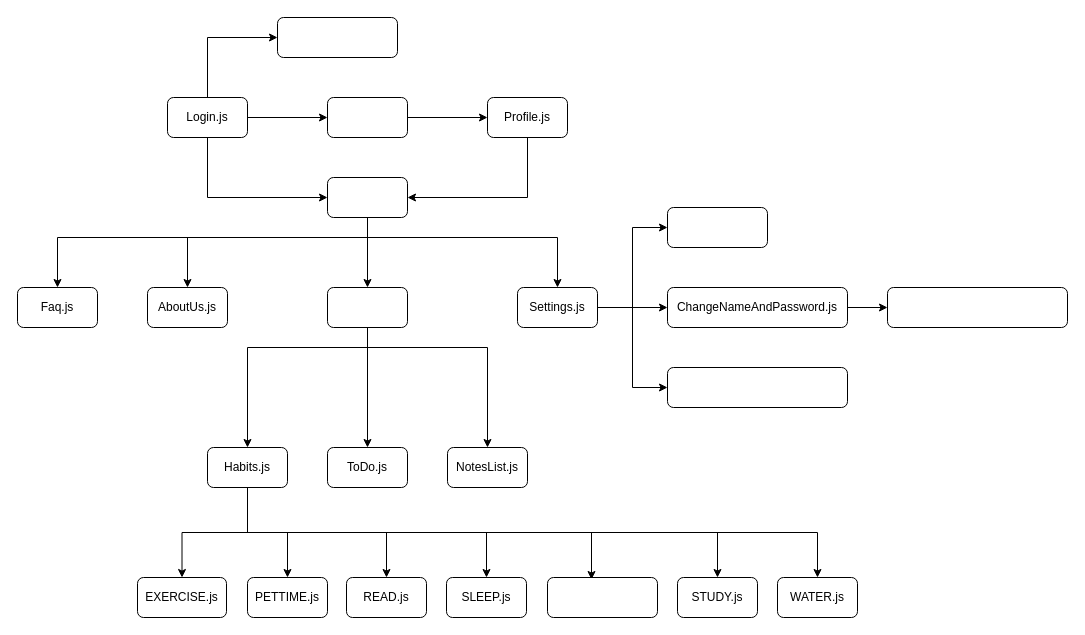
Some shapes in this 1085 by 635 pixel diagram are drawn without their labels. The centre of each missing label's shape, as x and y in pixels:
"BottomTab.js" belongs at [367,307].
"ChangeDetails.js" belongs at [717,227].
"Drawer.js" belongs at [367,197].
"ForgotPassword.js" belongs at [337,37].
"ModalChangeEmailPassword.js" belongs at [977,307].
"ModalDeleteAccount.js" belongs at [757,387].
"Register.js" belongs at [367,117].
"SOCIALMEDIA.js" belongs at [602,597].
